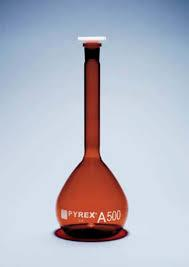Volumetric flask: (45, 27, 132, 238)
